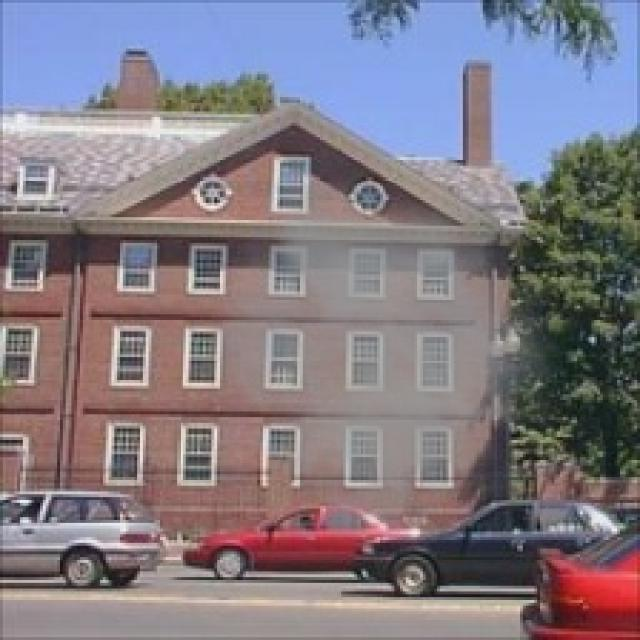smoke: (188, 183, 572, 563)
